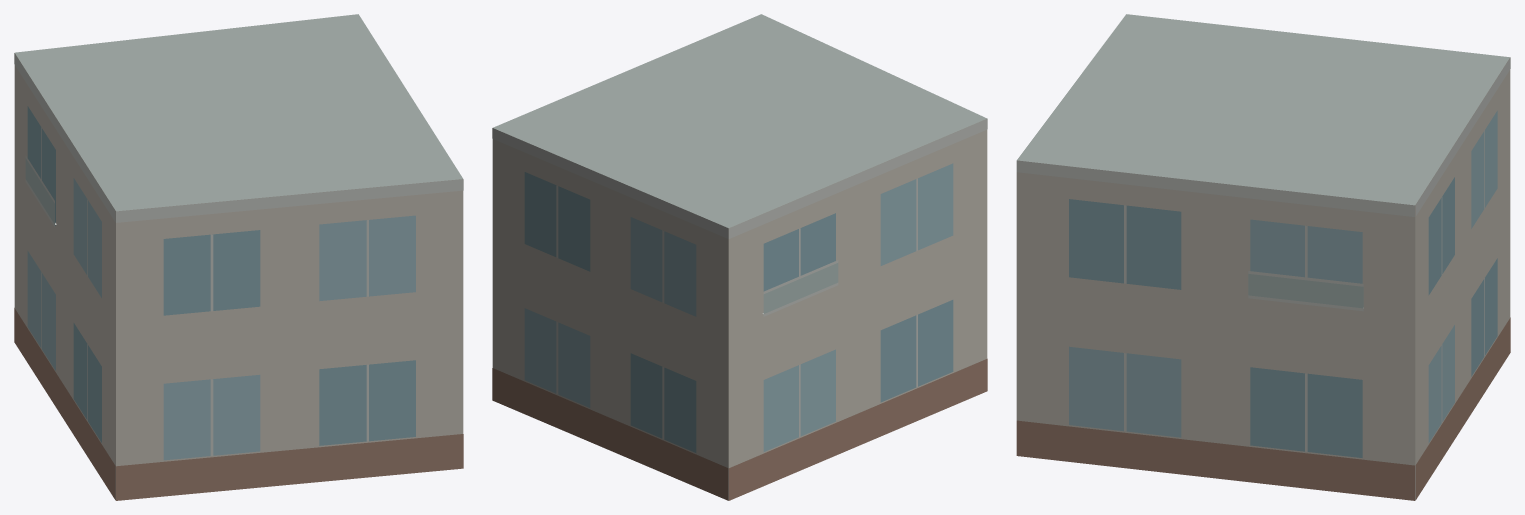
Rendered from survey-upis-32764350.glb.
The picture shows the model from 3 angles, left to right: view 1: azimuth 30°, elevation 25°; view 2: azimuth 150°, elevation 25°; view 3: azimuth 270°, elevation 25°; orthographic projection. The views are drawn at different scales.
Parts seen in each view (by area): view 1: survey-upis-32764350.tmp; view 2: survey-upis-32764350.tmp; view 3: survey-upis-32764350.tmp.
Boxes of the visible parts, left/top/right/bottom form: survey-upis-32764350.tmp: left=14, top=14, right=463, bottom=500; survey-upis-32764350.tmp: left=492, top=14, right=987, bottom=500; survey-upis-32764350.tmp: left=1016, top=14, right=1510, bottom=500.
Bounding box in the file's own units: 8.48 × 6.1 × 9.25.
